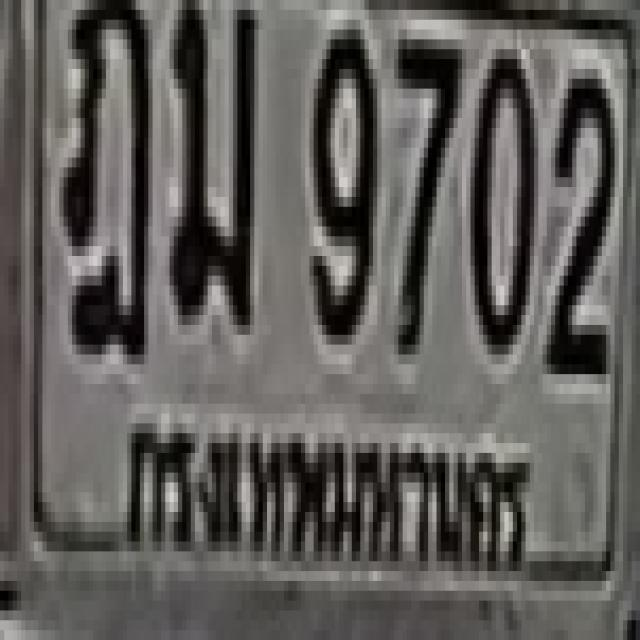0: (466, 39, 530, 344)
2: (542, 59, 610, 364)
7: (394, 29, 458, 344)
9: (309, 19, 373, 334)
A14: (59, 0, 148, 354)
A33: (165, 0, 250, 315)
BKK: (109, 402, 532, 591)
